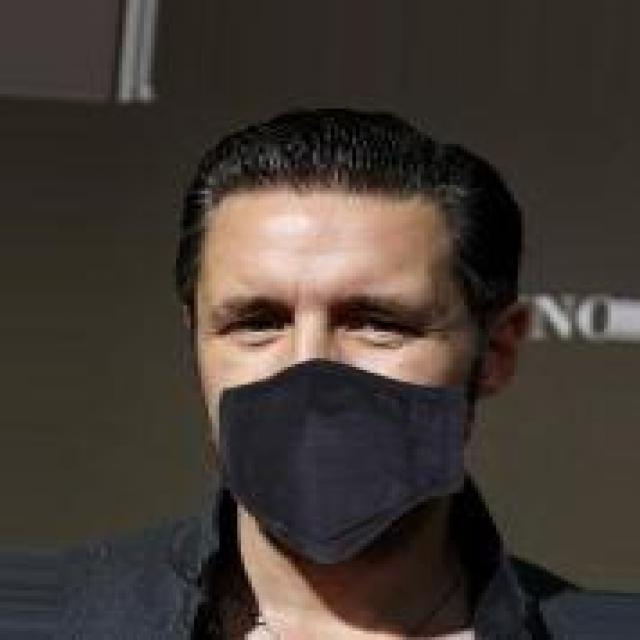mask: (154, 94, 596, 572)
